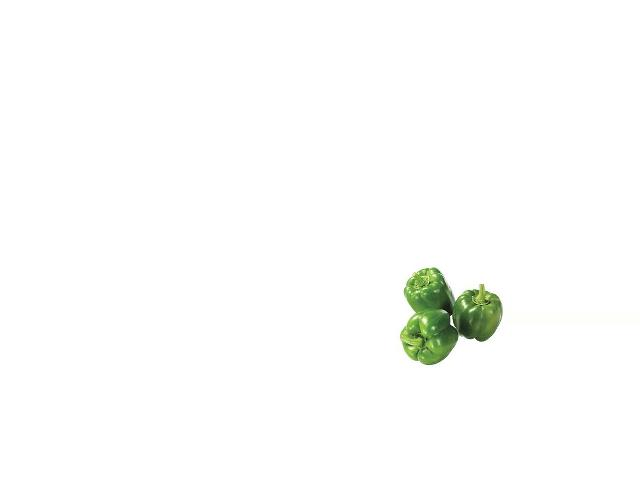bell_pepper: (395, 307, 457, 370)
